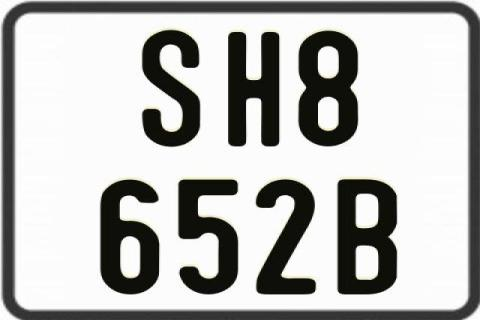0: (255, 178, 319, 294), (175, 178, 236, 294), (298, 30, 358, 146), (99, 177, 158, 293)
B: (336, 180, 399, 298)
H: (227, 31, 282, 149)
S: (139, 29, 197, 150)
